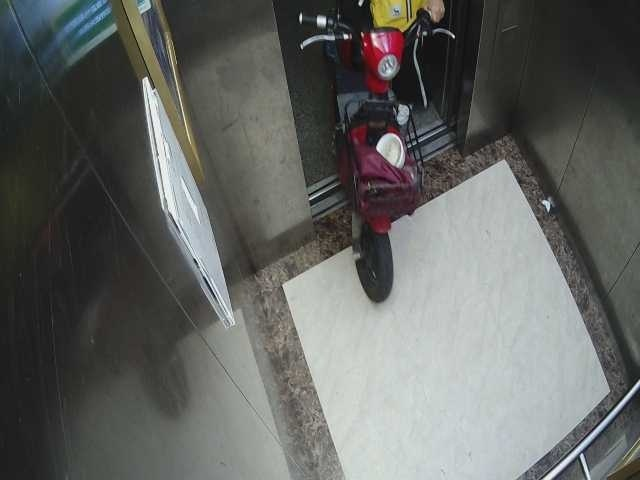emotor: (292, 11, 445, 308)
